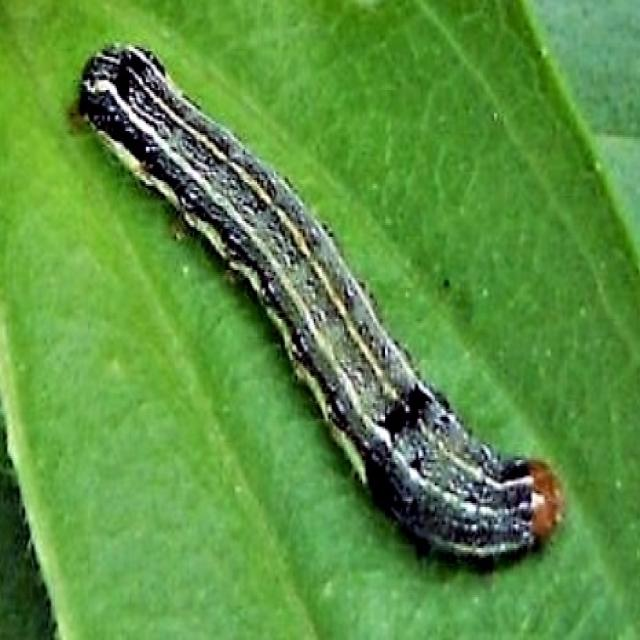armyworm: (74, 37, 566, 570)
